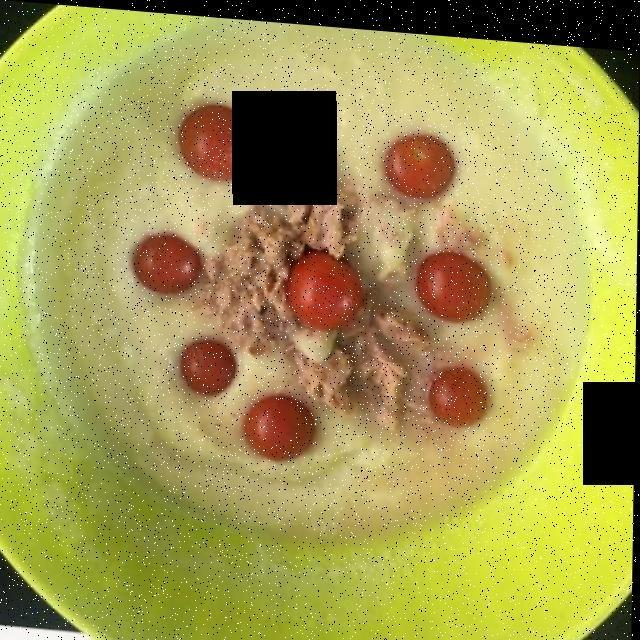mashed-potatoes: (75, 33, 583, 535)
tomato: (129, 106, 499, 461)
tuna: (193, 145, 479, 421)
